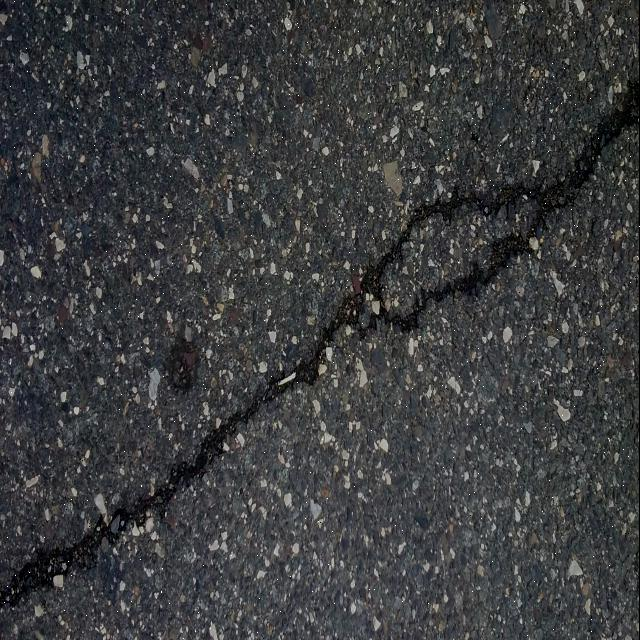Crack: (0, 67, 640, 610)
